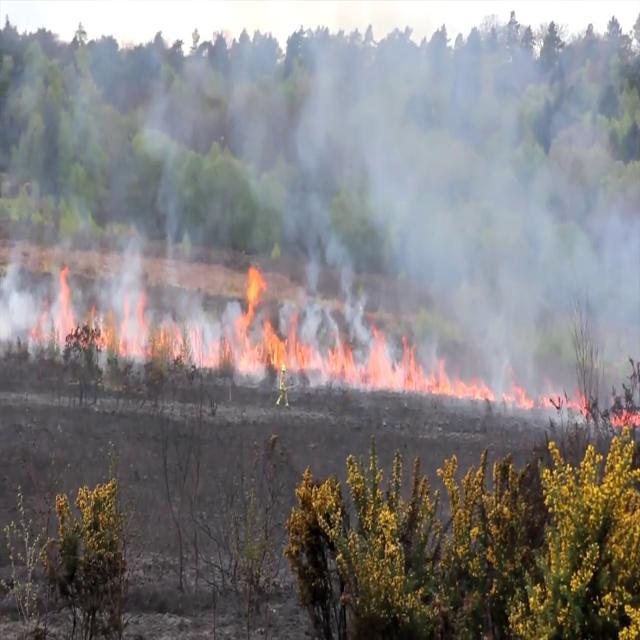Fire: (29, 262, 591, 419), (607, 406, 640, 428)
Smoke: (0, 32, 640, 430)
